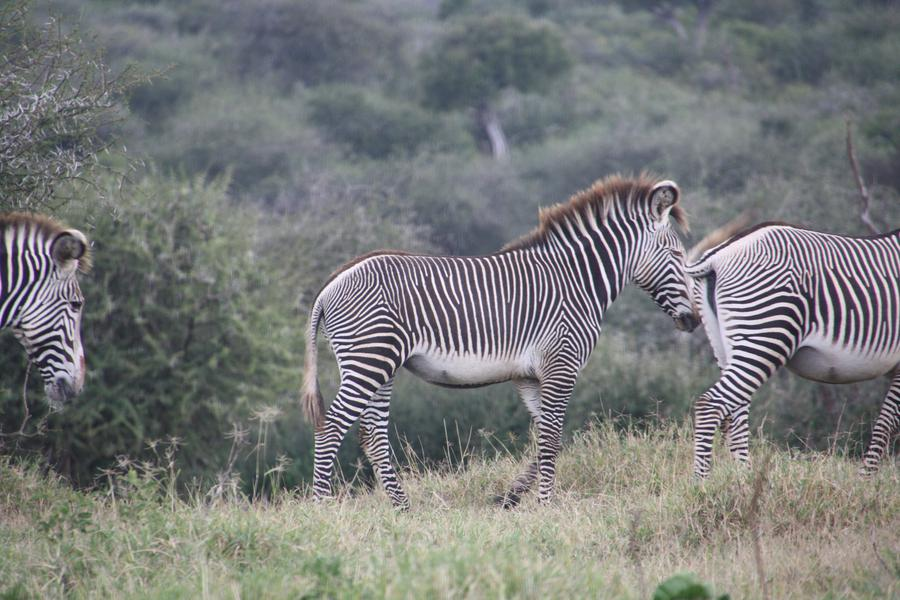zebra_grevys: (319, 248, 573, 374)
